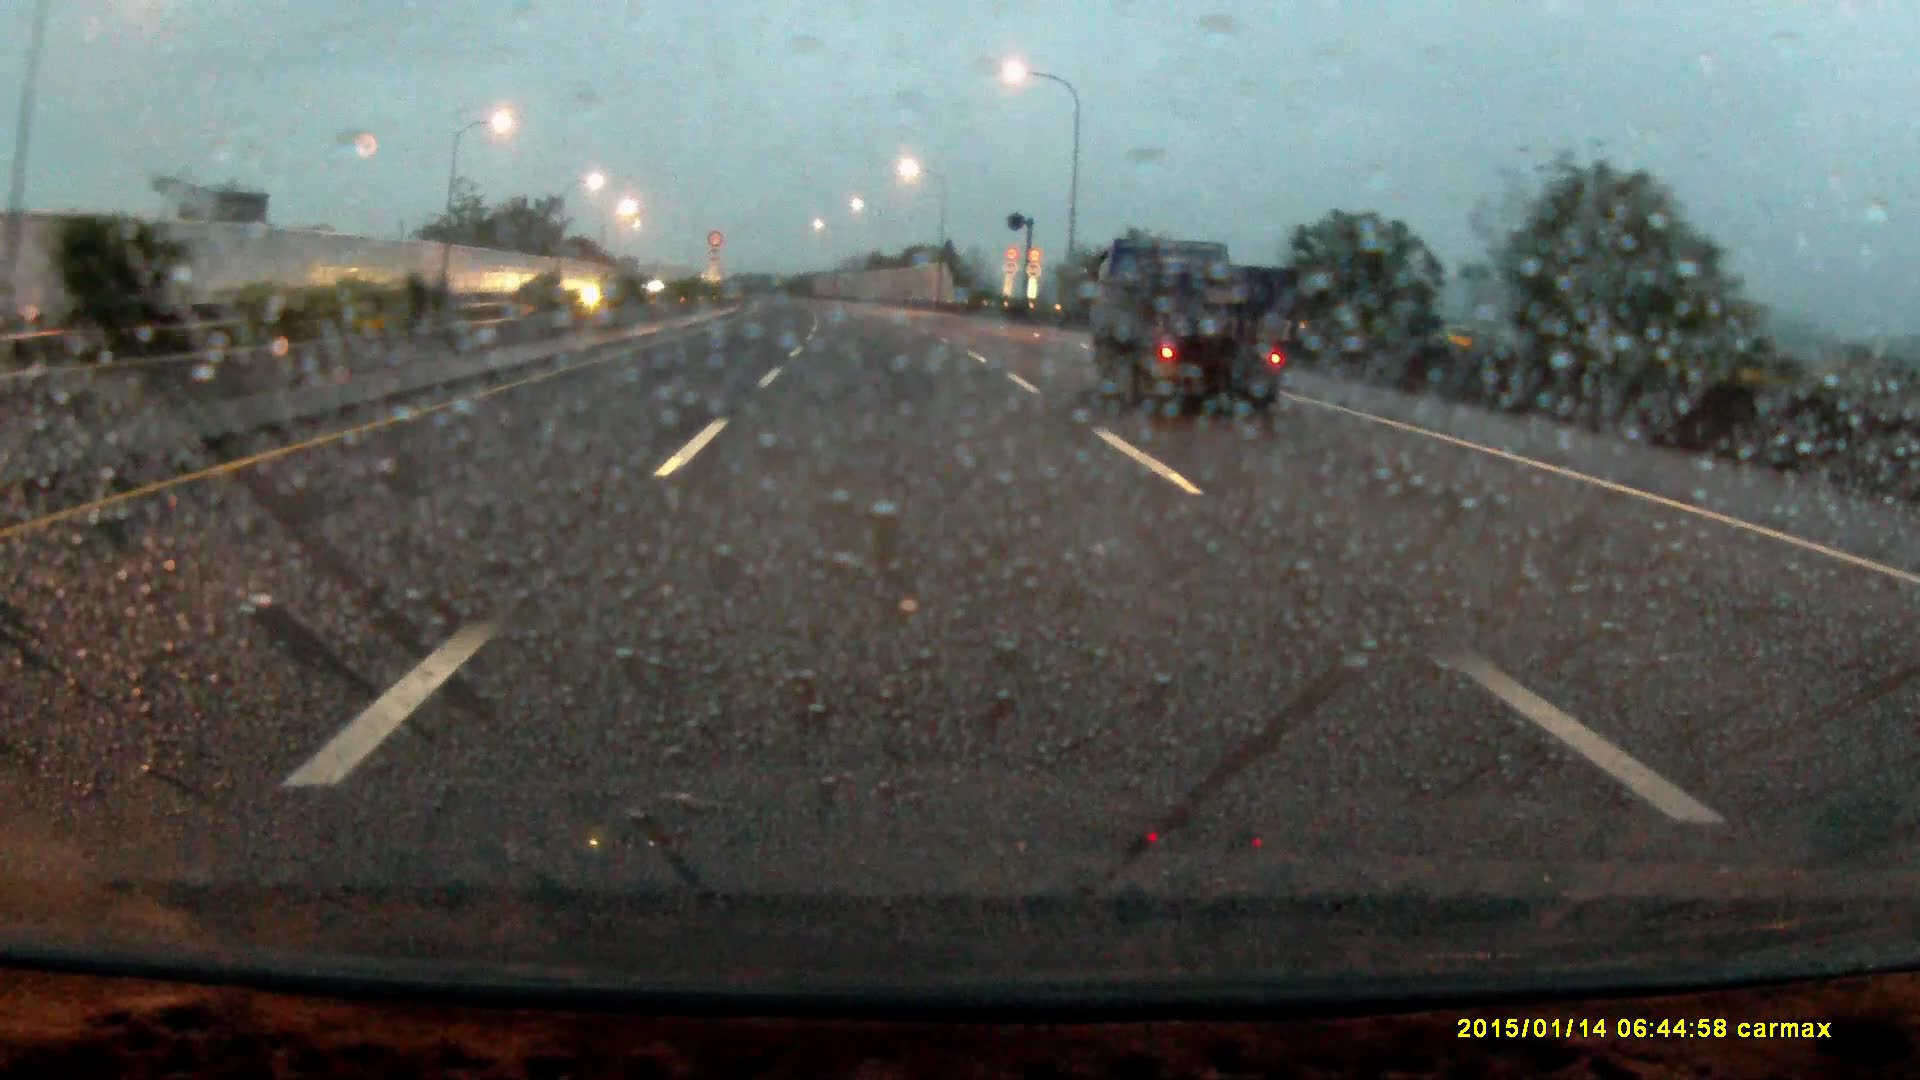vehicle: (1088, 243, 1291, 415)
